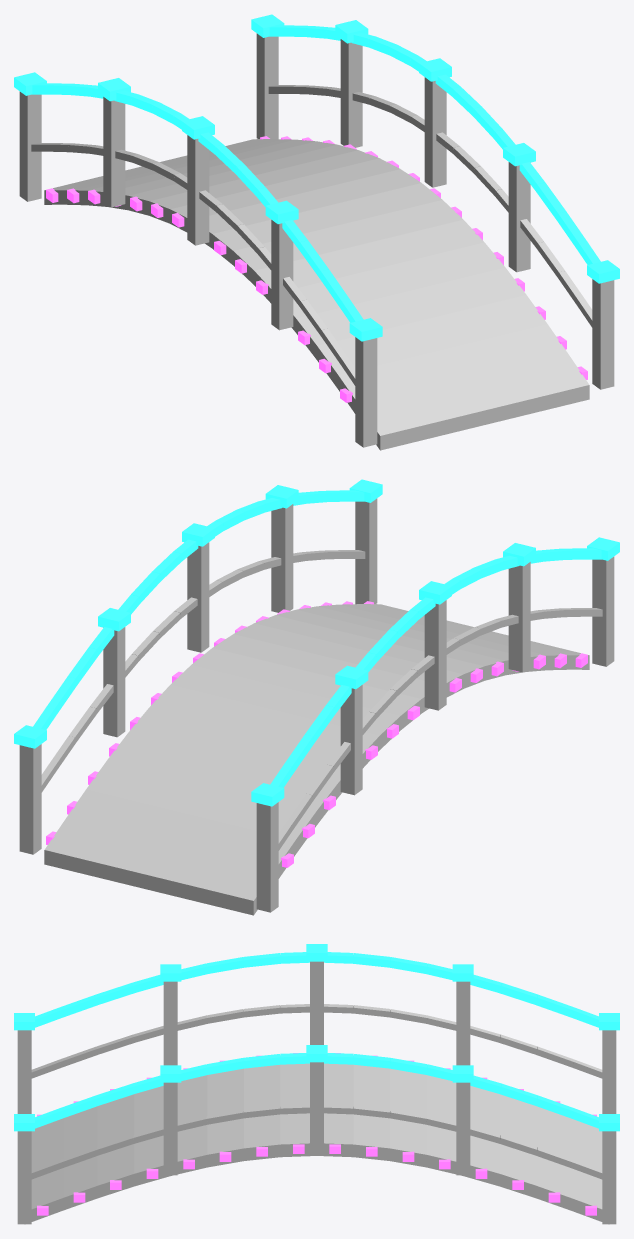
The picture shows the model from 3 angles, top to bottom: view 1: azimuth 30°, elevation 25°; view 2: azimuth 150°, elevation 25°; view 3: azimuth 270°, elevation 25°; orthographic projection. The views are drawn at different scales.
Visible parts, largest first — view 1: Neon_ArchedBridge_Standard; view 2: Neon_ArchedBridge_Standard; view 3: Neon_ArchedBridge_Standard.
Boxes of the visible parts, x1=… form: Neon_ArchedBridge_Standard: x1=14, y1=14, x2=619, y2=450; Neon_ArchedBridge_Standard: x1=14, y1=479, x2=619, y2=915; Neon_ArchedBridge_Standard: x1=14, y1=944, x2=619, y2=1224.
Size of the model in its own units: 2.22 by 1.71 by 5.18.
